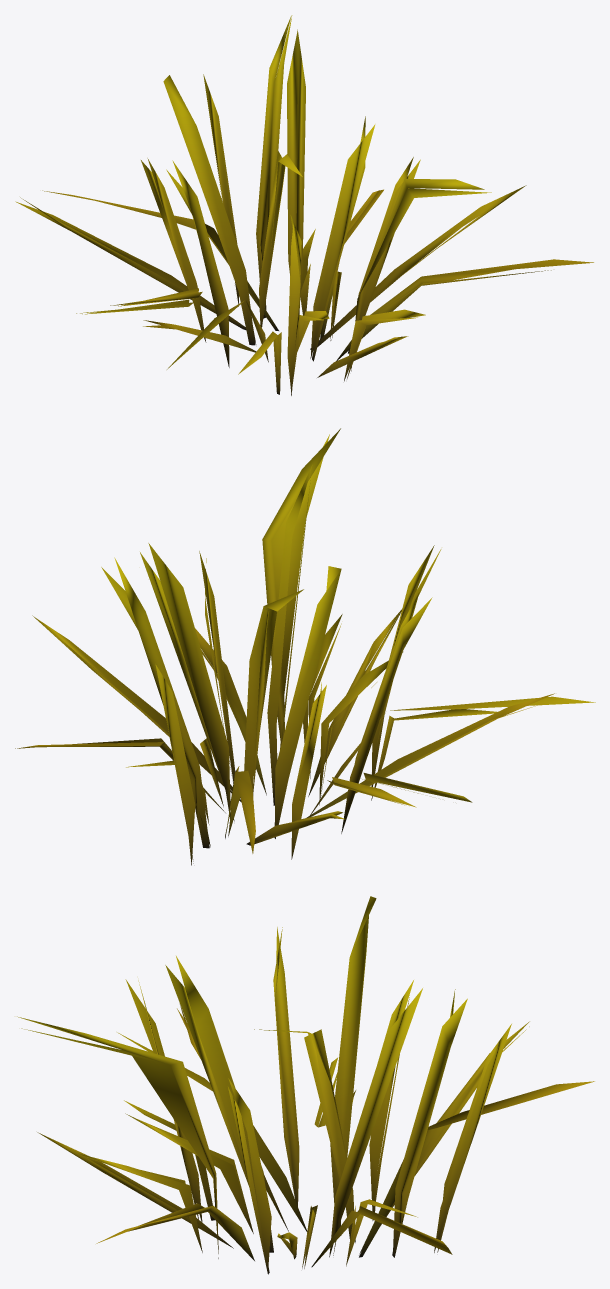
Rendered from Grass_Ground.glb.
3 views of the same model, one above another, from view 1: azimuth 30°, elevation 25°; view 2: azimuth 150°, elevation 25°; view 3: azimuth 270°, elevation 25° (orthographic). The views are drawn at different scales.
Parts seen in each view (by area): view 1: Grass_Wispy_Tall; view 2: Grass_Wispy_Tall; view 3: Grass_Wispy_Tall.
Part boxes in pixels (box(x1,y1,x2,y2)): Grass_Wispy_Tall: box(15, 15, 593, 395); Grass_Wispy_Tall: box(15, 428, 595, 865); Grass_Wispy_Tall: box(17, 896, 594, 1274).
Size of the model in its own units: 0.6252 by 0.38 by 0.6543.
Materials: 1 (1 with a texture image).
